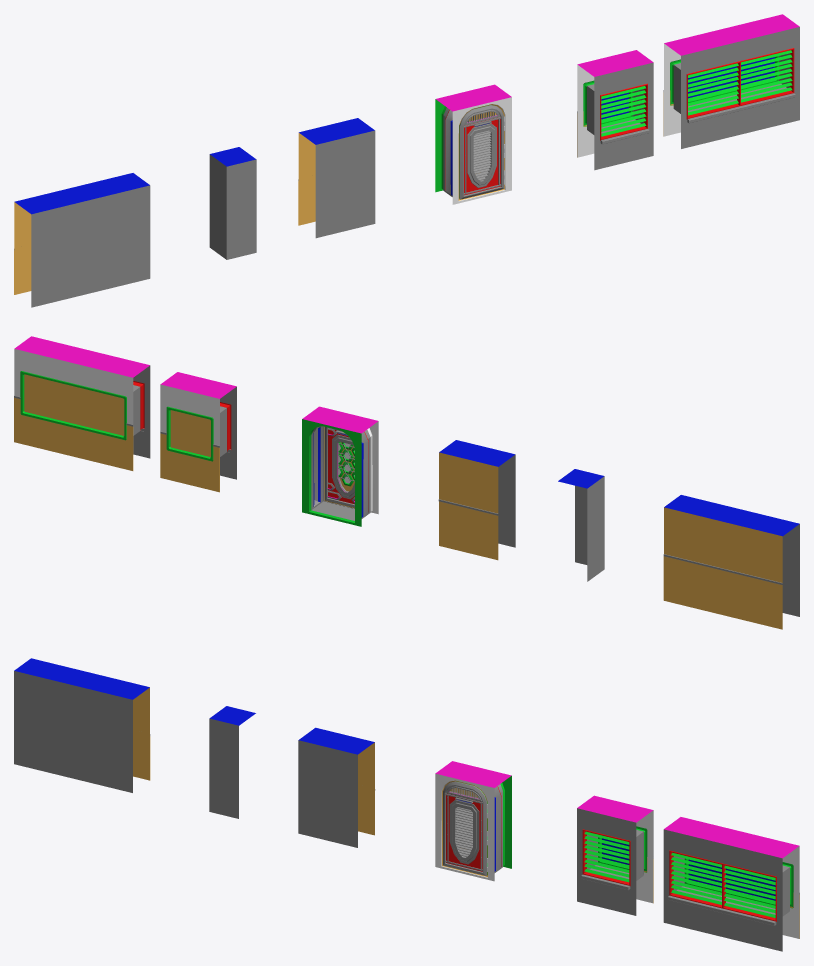
The model's file is CityInteriorBlocks00.fbx.
The picture shows the model from 3 angles, top to bottom: view 1: azimuth 30°, elevation 25°; view 2: azimuth 150°, elevation 25°; view 3: azimuth 330°, elevation 25°; orthographic projection.
Visible parts, largest first — view 1: Box005, Box004, Box002, Box001, Box003, Door00Block, Door00Mesh, InteriorBlock_Window001, InteriorBlock_Window00; view 2: Box004, Box005, Box001, Door00Block, InteriorBlock_Wall00_4x3, Box002, InteriorBlock_Window001, Box003, InteriorBlock_Wall00_2x3, Door00Mesh, InteriorBlock_Window00; view 3: Box005, Box004, Box002, Box001, Door00Block, Door00Mesh, InteriorBlock_Window001, Box003, InteriorBlock_Window00.
Part boxes in pixels (x1,y1,x2,y2): Box005: (14,173,150,307); Box004: (664,14,799,148); Box002: (298,118,375,238); Box001: (577,50,653,170); Box003: (209,147,256,259); Door00Block: (435,84,511,204); Door00Mesh: (459,105,503,199); InteriorBlock_Window001: (663,50,792,136); InteriorBlock_Window00: (577,86,646,157); Box004: (14,336,150,458); Box005: (664,495,799,616); Box001: (160,372,236,479); Door00Block: (302,406,378,526); InteriorBlock_Wall00_4x3: (663,554,782,629); Box002: (439,440,515,547); InteriorBlock_Window001: (14,395,133,470); Box003: (558,469,604,581); InteriorBlock_Wall00_2x3: (438,499,498,560); Door00Mesh: (325,427,354,507); InteriorBlock_Window00: (160,431,219,492); Box005: (14,658,149,792); Box004: (663,817,799,951); Box002: (298,727,374,847); Box001: (577,795,653,915); Door00Block: (435,761,511,881); Door00Mesh: (443,781,487,875); InteriorBlock_Window001: (671,852,799,938); Box003: (209,706,255,818); InteriorBlock_Window00: (584,831,653,903).
Bounding box in the file's own units: 258 × 30 × 11.24.
